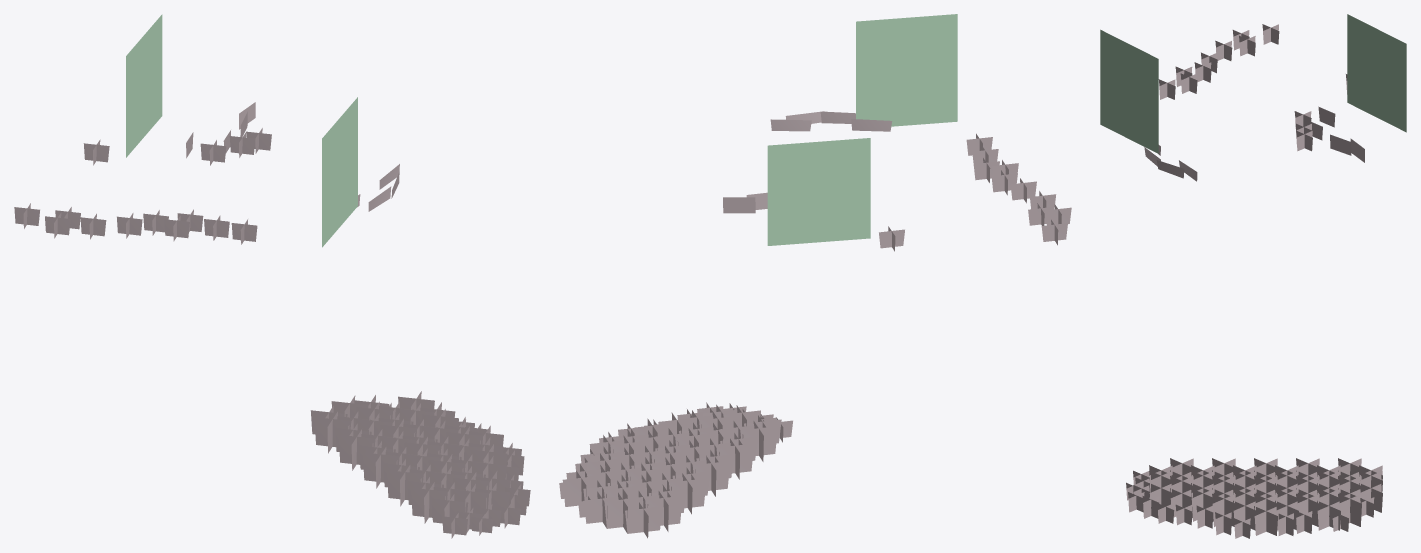
3 views of the same model, side by side, from view 1: azimuth 30°, elevation 25°; view 2: azimuth 150°, elevation 25°; view 3: azimuth 270°, elevation 25° (orthographic). The views are drawn at different scales.
Parts seen in each view (by area): view 1: 2-5_skeleton; view 2: 2-5_skeleton; view 3: 2-5_skeleton.
Part boxes in pixels (left/top/right/bottom): 2-5_skeleton: left=14, top=14, right=530, bottom=538; 2-5_skeleton: left=559, top=14, right=1071, bottom=538; 2-5_skeleton: left=1100, top=14, right=1406, bottom=538.
Size of the model in its own units: 1732 by 1548 by 1095.
